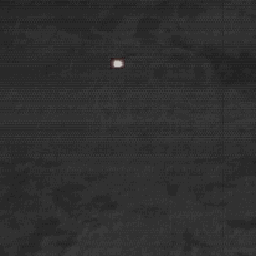Target: (109, 57, 127, 69)
